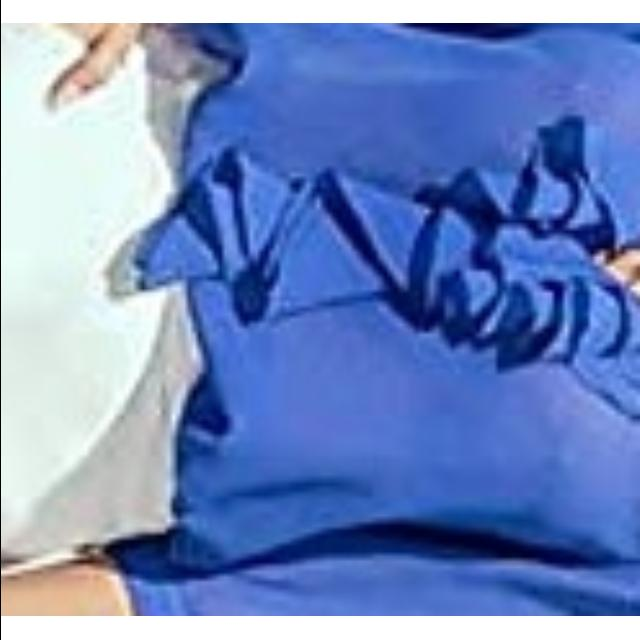polyester: (0, 34, 640, 566)
